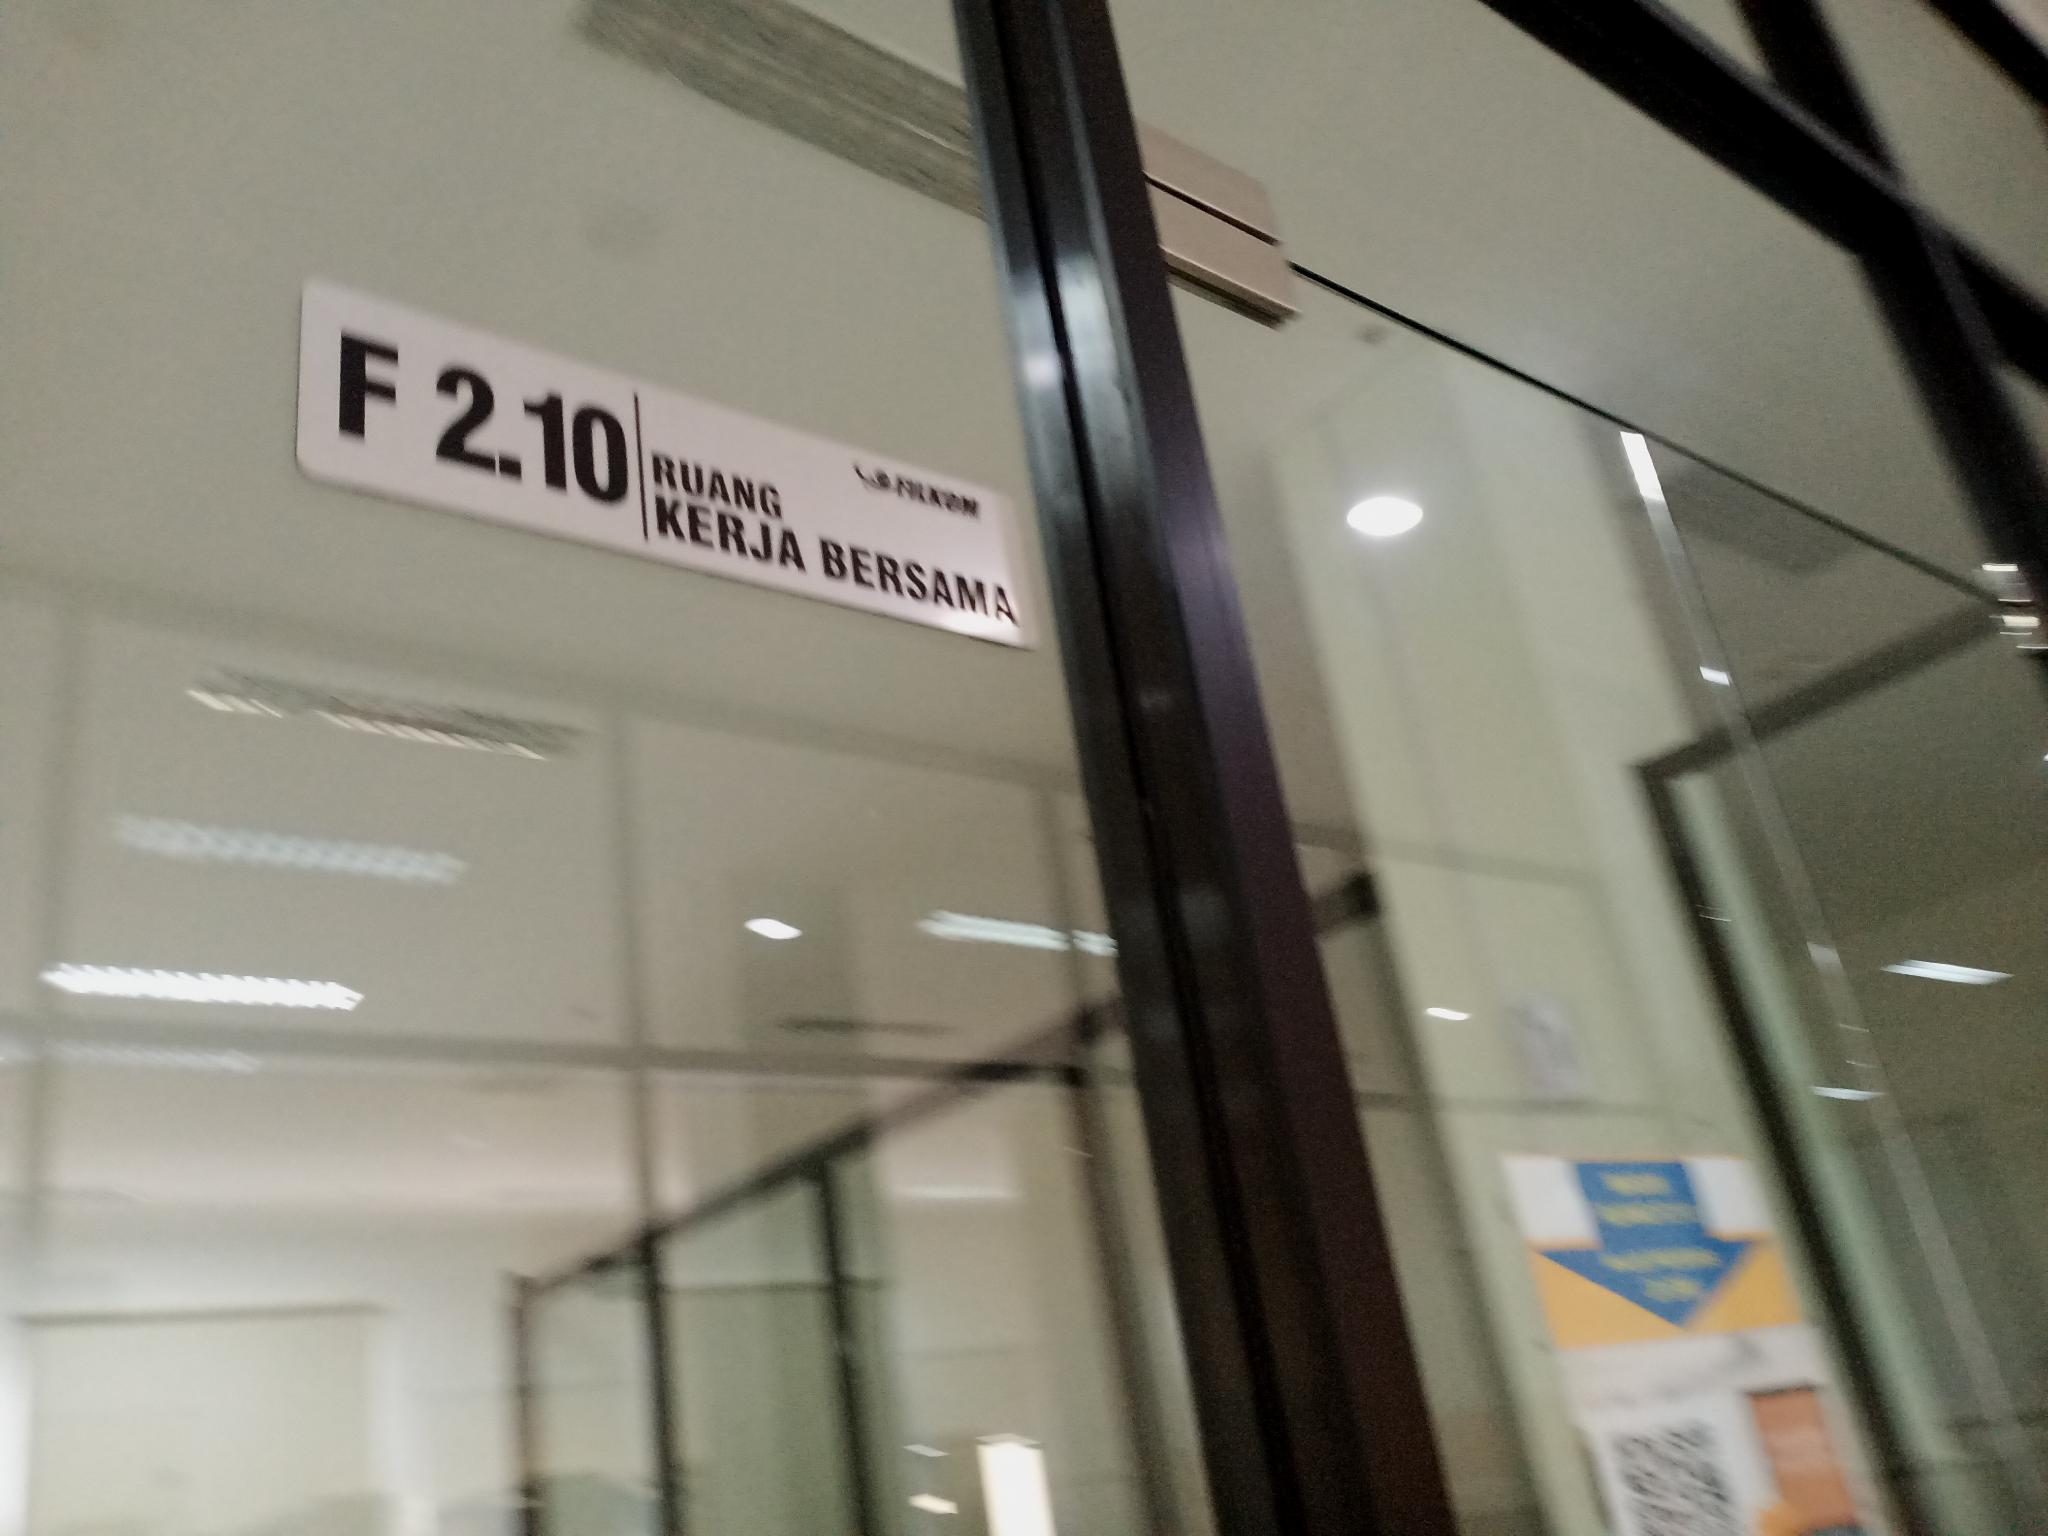plate: (293, 271, 1027, 660)
